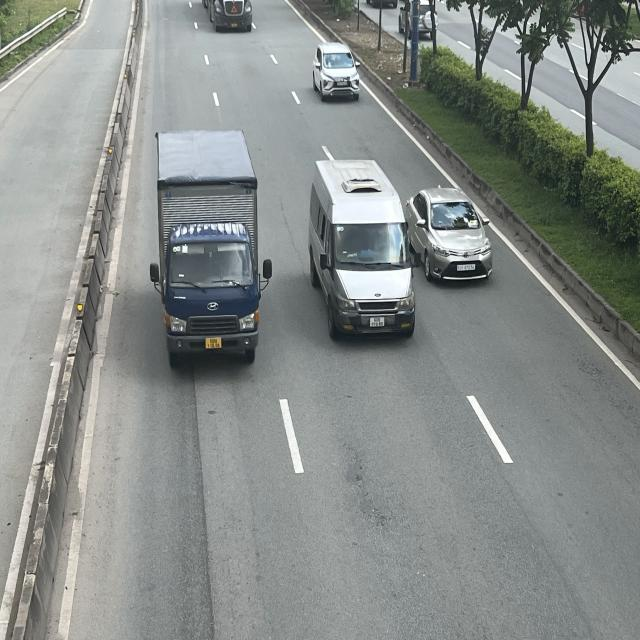car: (406, 184, 492, 282), (313, 41, 361, 101)
container: (200, 0, 255, 30)
truck: (148, 129, 272, 366)
van: (306, 158, 419, 338)
